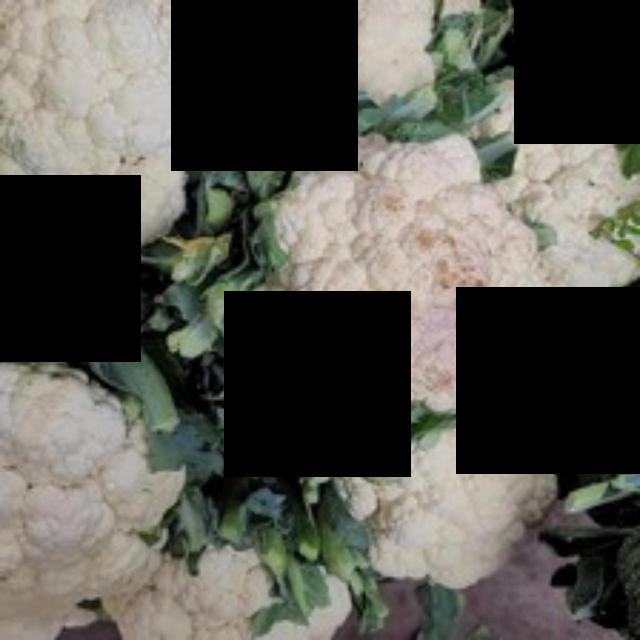cauliflower: (221, 110, 558, 440)
